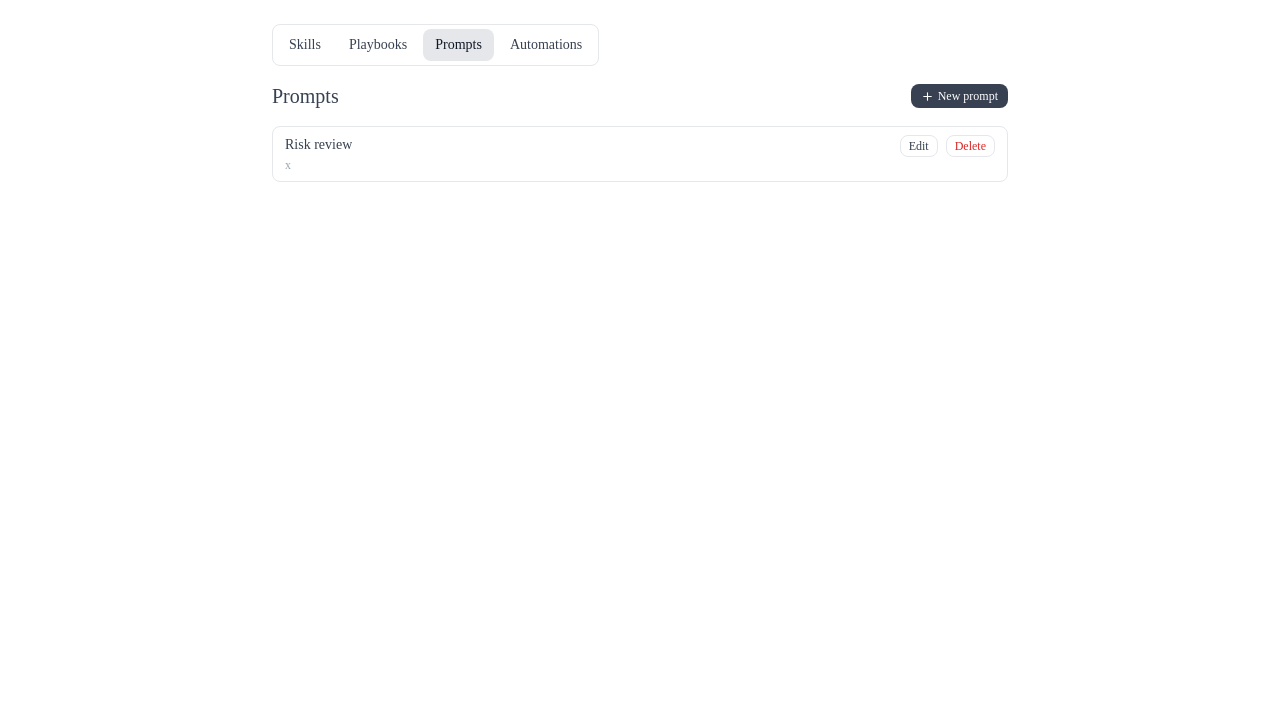
it: /prompts index › renders rows from data and opens the create modal
Expected: the text "Risk review" is shown, [285, 135, 352, 155]
Click the button "New prompt": (959, 96) [911, 84, 1008, 108]
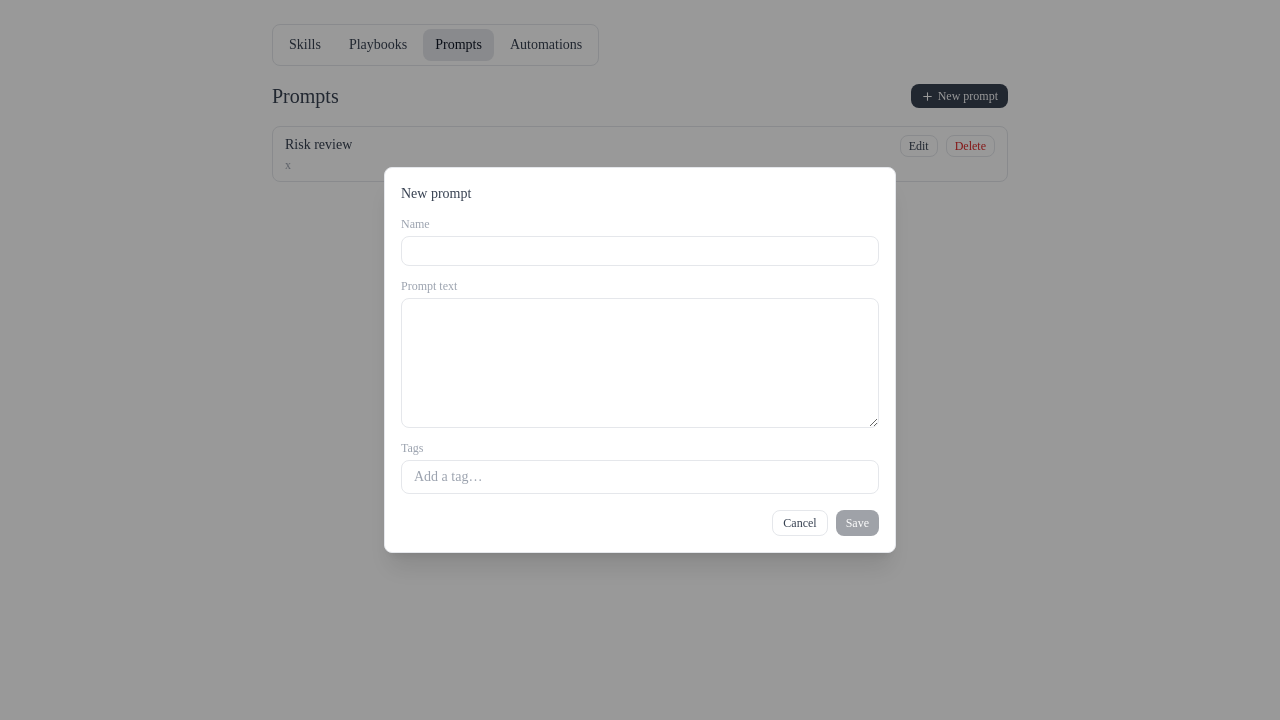
Expected: the dialog "New prompt Name Prompt text Tags Cancel Save" is shown, [384, 167, 896, 553]
